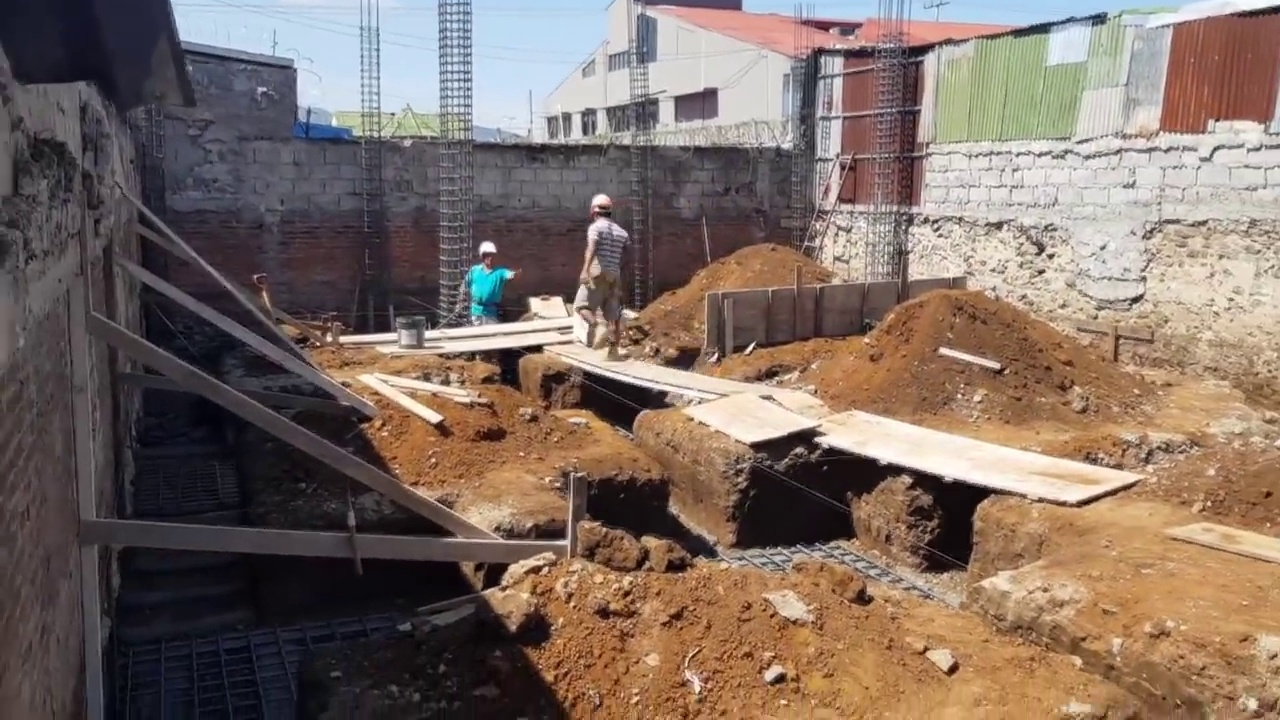helmet: (587, 193, 614, 214), (478, 241, 497, 257)
helmet-on: (587, 193, 614, 222), (477, 243, 499, 268)
person: (573, 193, 630, 356), (458, 240, 522, 327)
